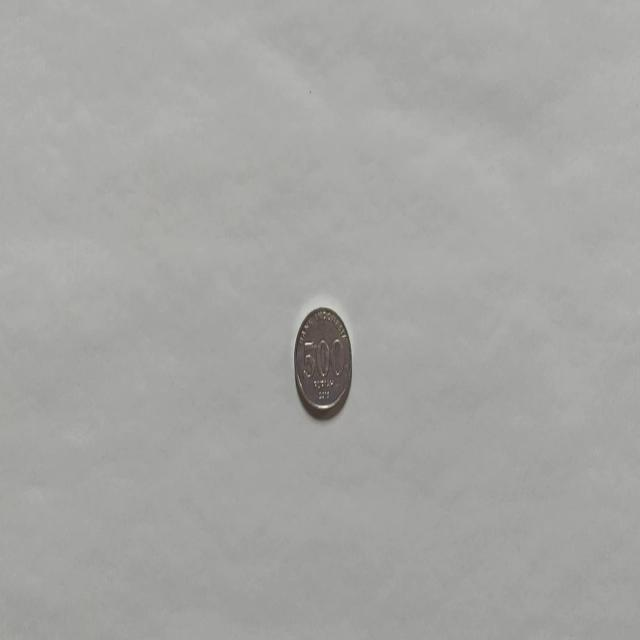lima ratus rupiah: (293, 305, 352, 419)
